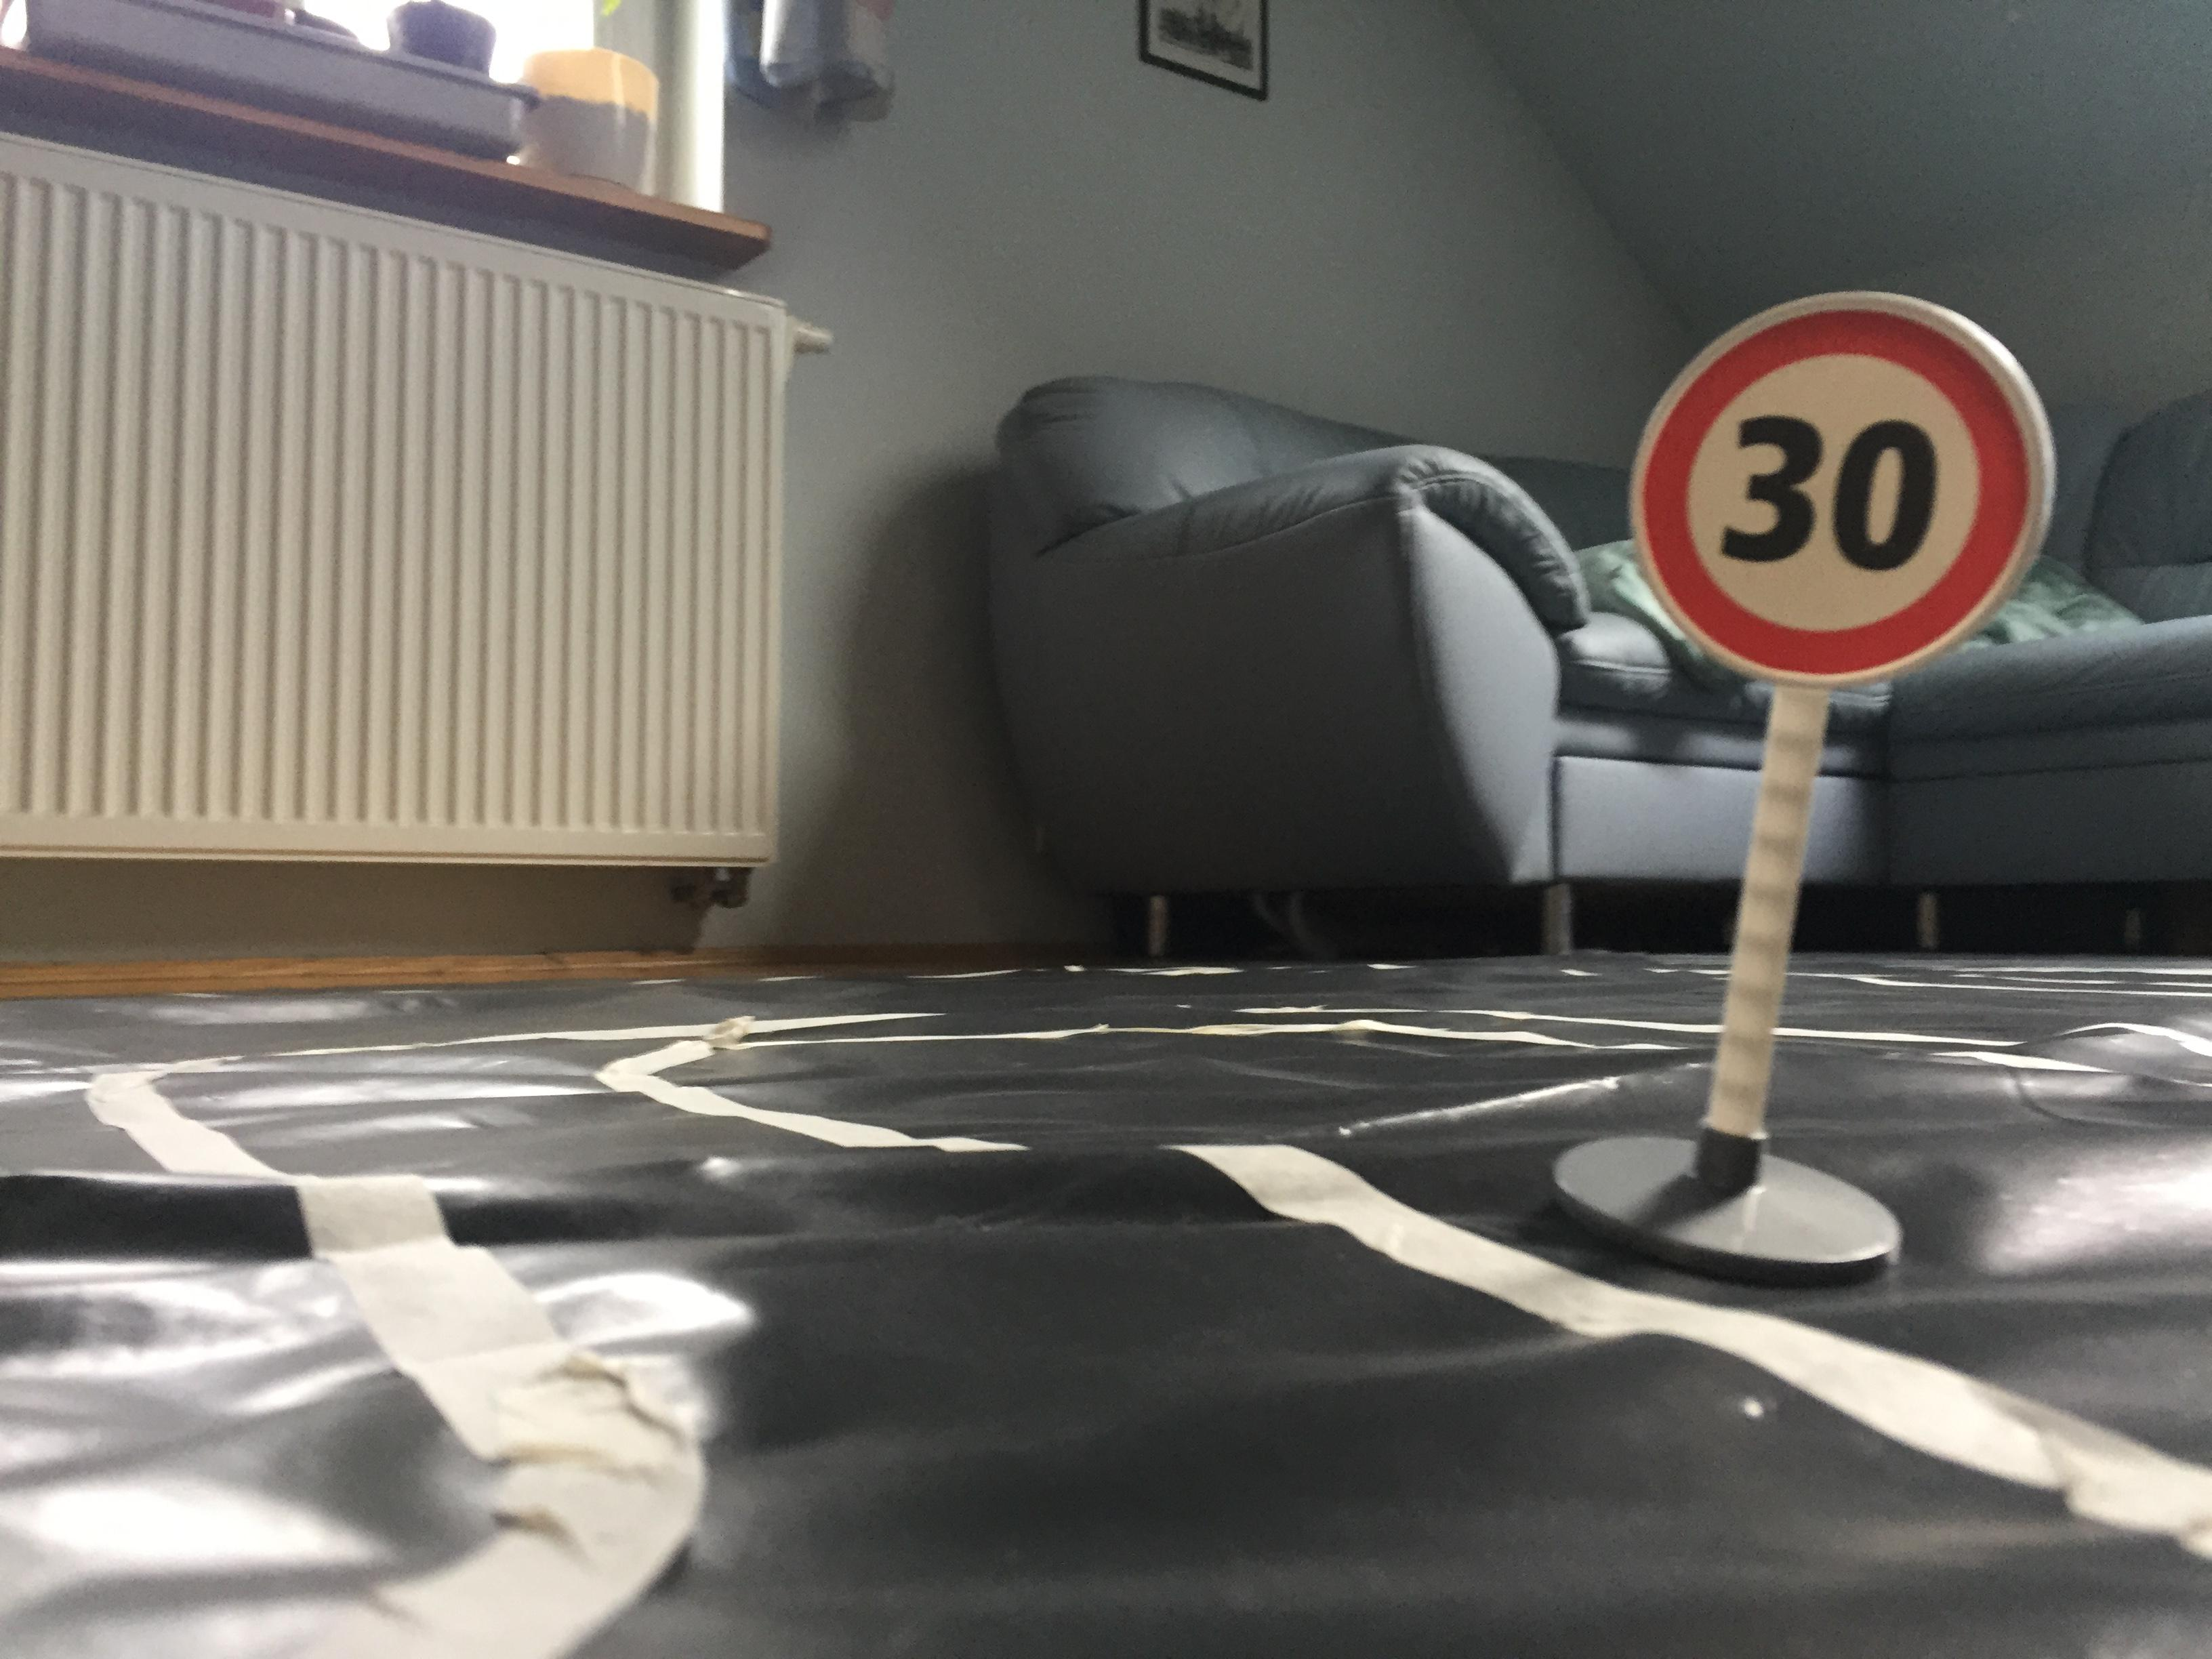speed: (1613, 284, 2080, 701)
